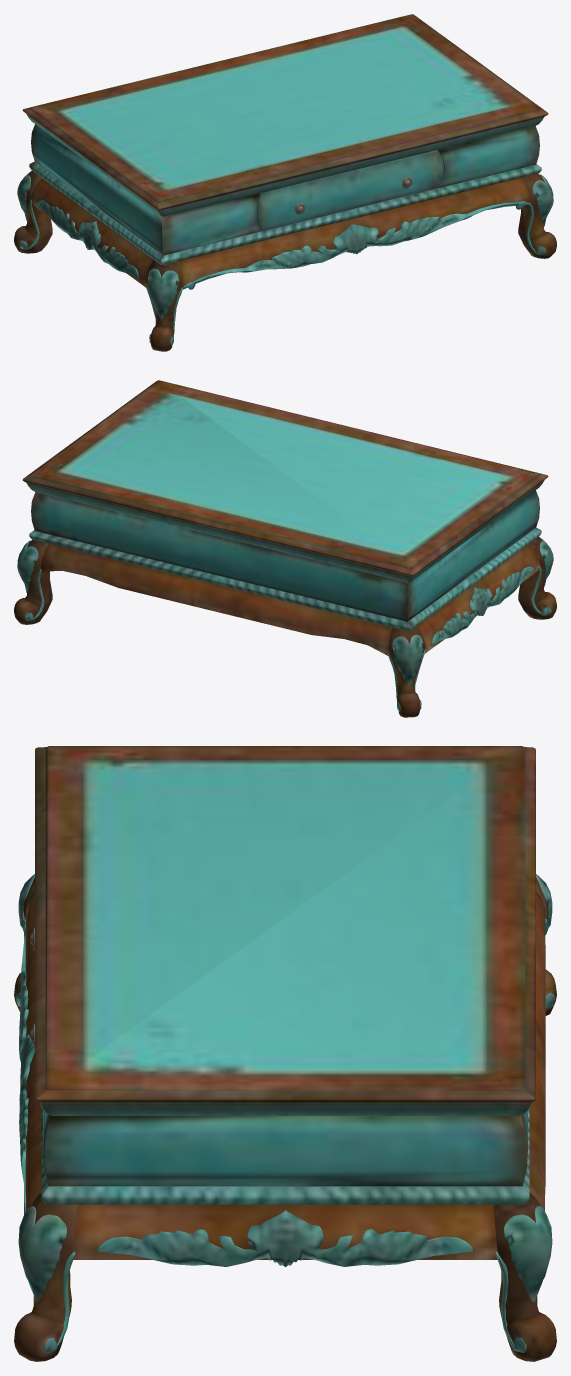
File: coffee-table-01.lite.60b37f91.glb
3 renders of one model, top to bottom at view 1: azimuth 30°, elevation 25°; view 2: azimuth 150°, elevation 25°; view 3: azimuth 270°, elevation 25°, orthographic. The views are drawn at different scales.
Visible parts, largest first — view 1: model; view 2: model; view 3: model.
Boxes of the visible parts, left/top/right/bottom form: model: left=14, top=14, right=556, bottom=351; model: left=14, top=380, right=556, bottom=717; model: left=14, top=746, right=556, bottom=1361.
Bounding box in the file's own units: 1.54 × 0.5232 × 0.9728.
1 material, 1 textured.
